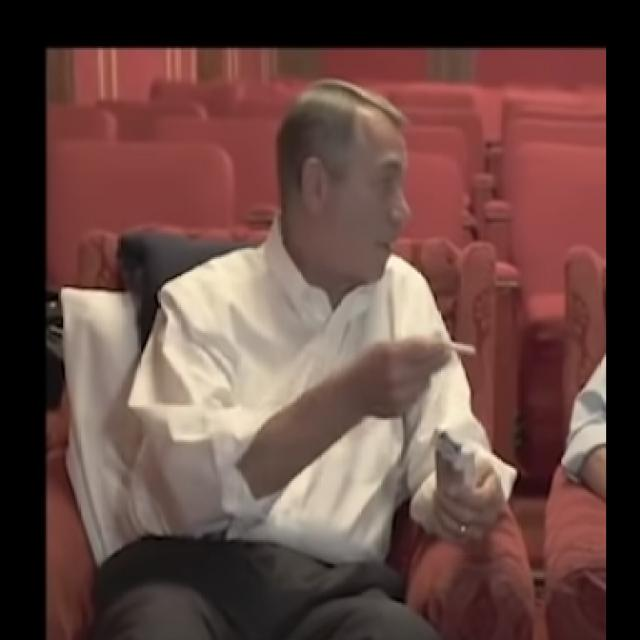smoke: (444, 338, 479, 362)
